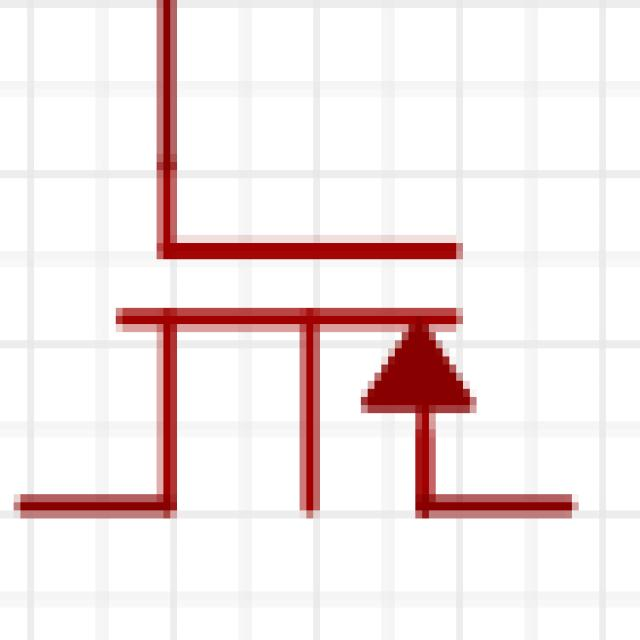pmos: (16, 20, 596, 584)
